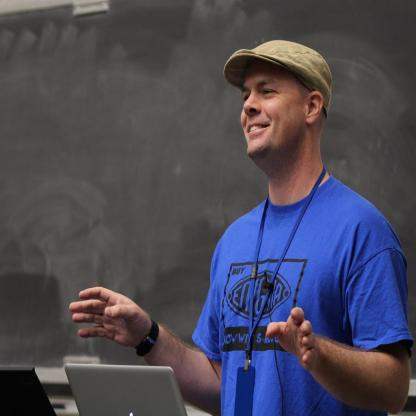board: (64, 364, 187, 416), (0, 365, 57, 416)
